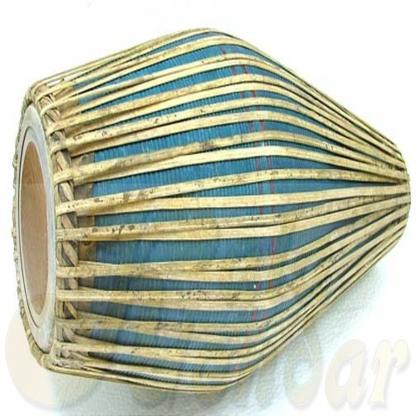Mridangam: (4, 27, 414, 416)
